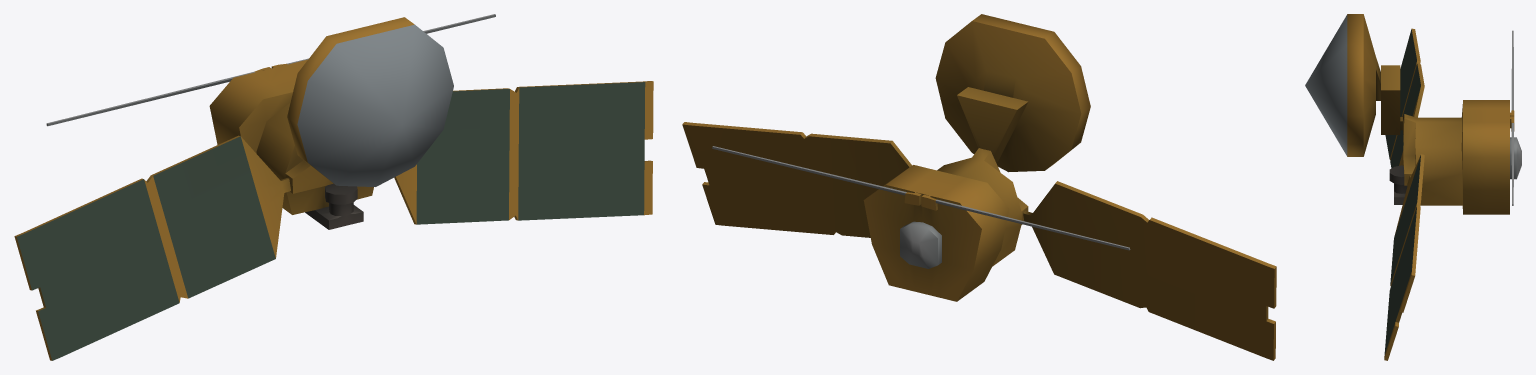
The model's file is space-satellites-communications-satellite_v3.glb.
3 views of the same model, side by side, from view 1: azimuth 30°, elevation 25°; view 2: azimuth 150°, elevation 25°; view 3: azimuth 270°, elevation 25° (orthographic). The views are drawn at different scales.
Parts seen in each view (by area): view 1: Communications Satellite_v3; view 2: Communications Satellite_v3; view 3: Communications Satellite_v3.
Boxes of the visible parts, x1,y1,x2,y2 form: Communications Satellite_v3: (14,14,653,360); Communications Satellite_v3: (682,14,1276,360); Communications Satellite_v3: (1305,14,1521,360).
Bounding box in the file's own units: 12 × 4.89 × 4.46.
